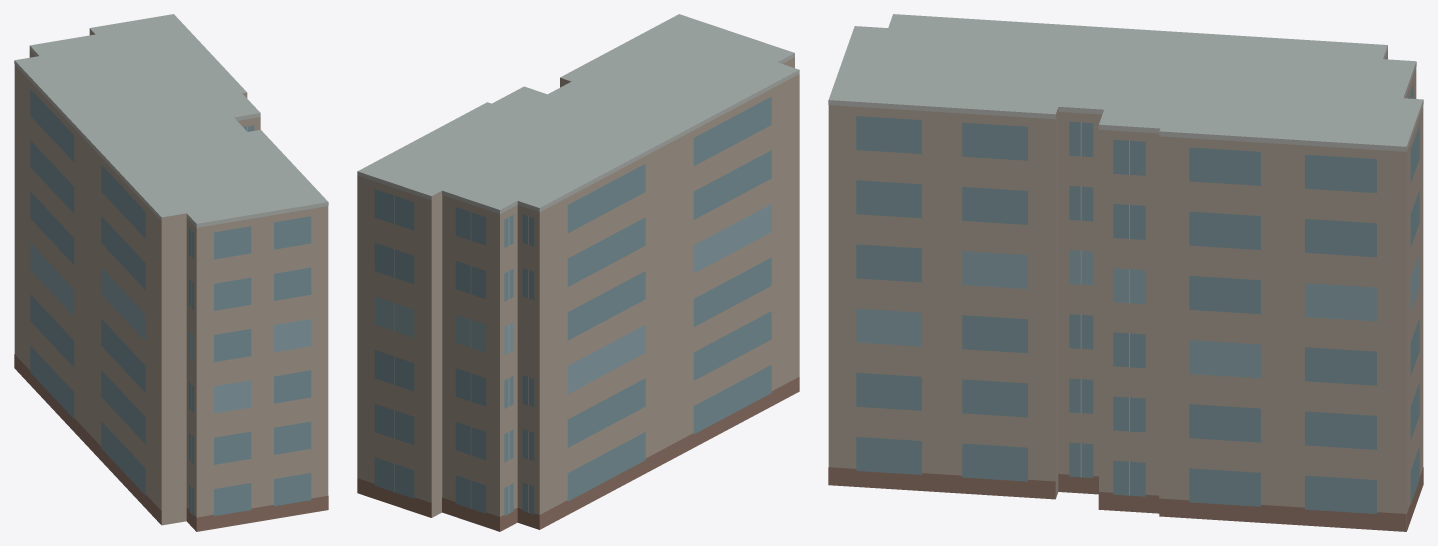
The model's file is survey-upis-33047019.glb.
3 renders of one model, left to right at view 1: azimuth 30°, elevation 25°; view 2: azimuth 150°, elevation 25°; view 3: azimuth 270°, elevation 25°, orthographic. The views are drawn at different scales.
Parts seen in each view (by area): view 1: survey-upis-33047019.tmp; view 2: survey-upis-33047019.tmp; view 3: survey-upis-33047019.tmp.
Part boxes in pixels (left/top/right/bottom): survey-upis-33047019.tmp: left=14, top=14, right=328, bottom=531; survey-upis-33047019.tmp: left=357, top=14, right=799, bottom=531; survey-upis-33047019.tmp: left=828, top=14, right=1423, bottom=531.
Size of the model in its own units: 13.99 by 18.9 by 26.48.
